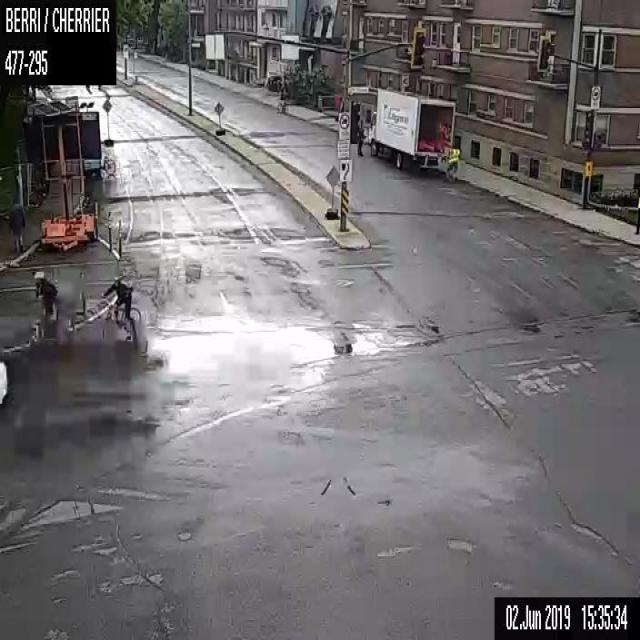construction: (22, 100, 99, 246), (325, 165, 338, 218), (101, 99, 113, 146), (213, 100, 225, 135), (81, 272, 86, 319), (117, 216, 121, 256), (107, 218, 112, 250), (55, 303, 59, 332), (37, 311, 41, 338)
cyclist: (100, 275, 141, 339), (32, 270, 64, 338)
pedestrian: (7, 199, 25, 256), (446, 144, 459, 180), (356, 119, 364, 157)
vehicle: (368, 88, 454, 171)
